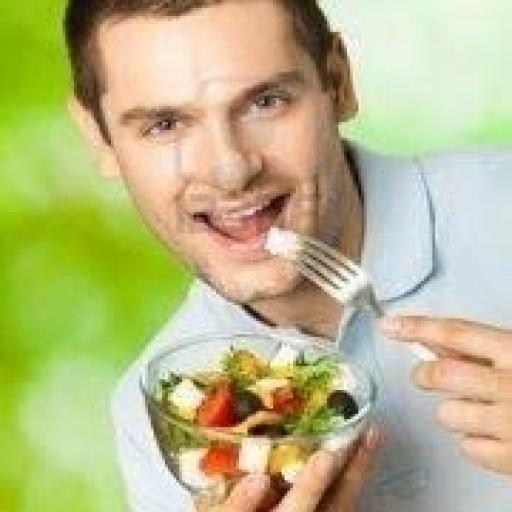laughing: (48, 0, 509, 509)
